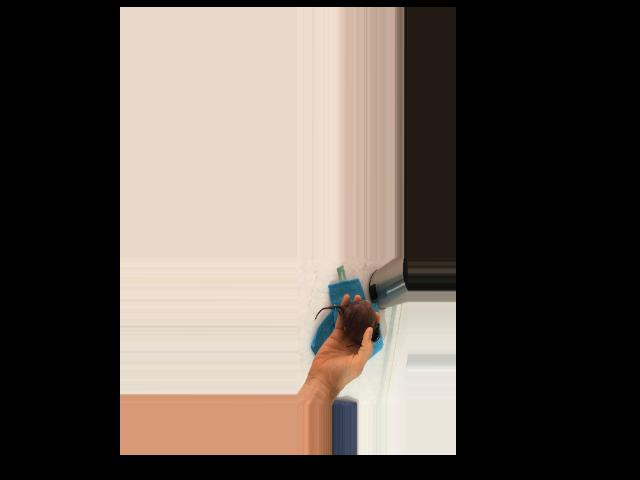beet: (314, 299, 380, 346)
